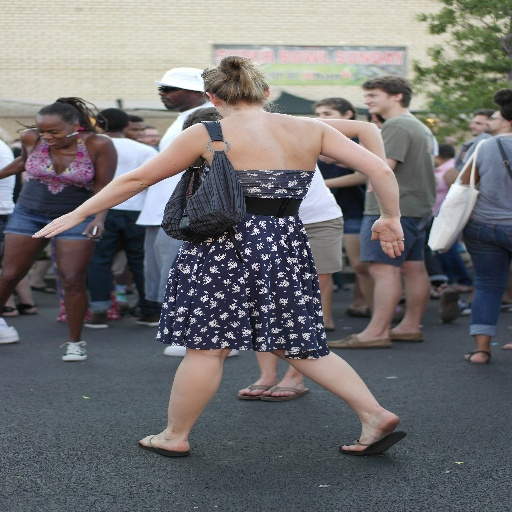hand: (375, 204, 422, 254), (31, 211, 86, 238), (81, 219, 106, 240)
